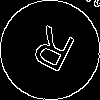R: (25, 25, 78, 82)
